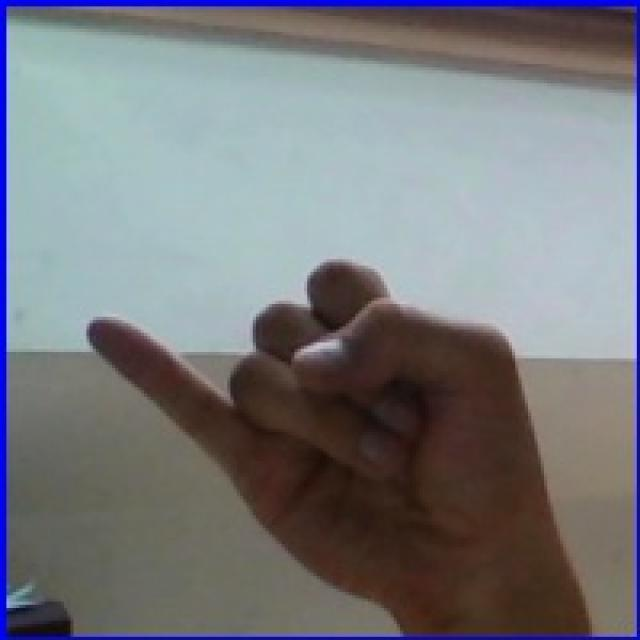J: (66, 196, 602, 631)
